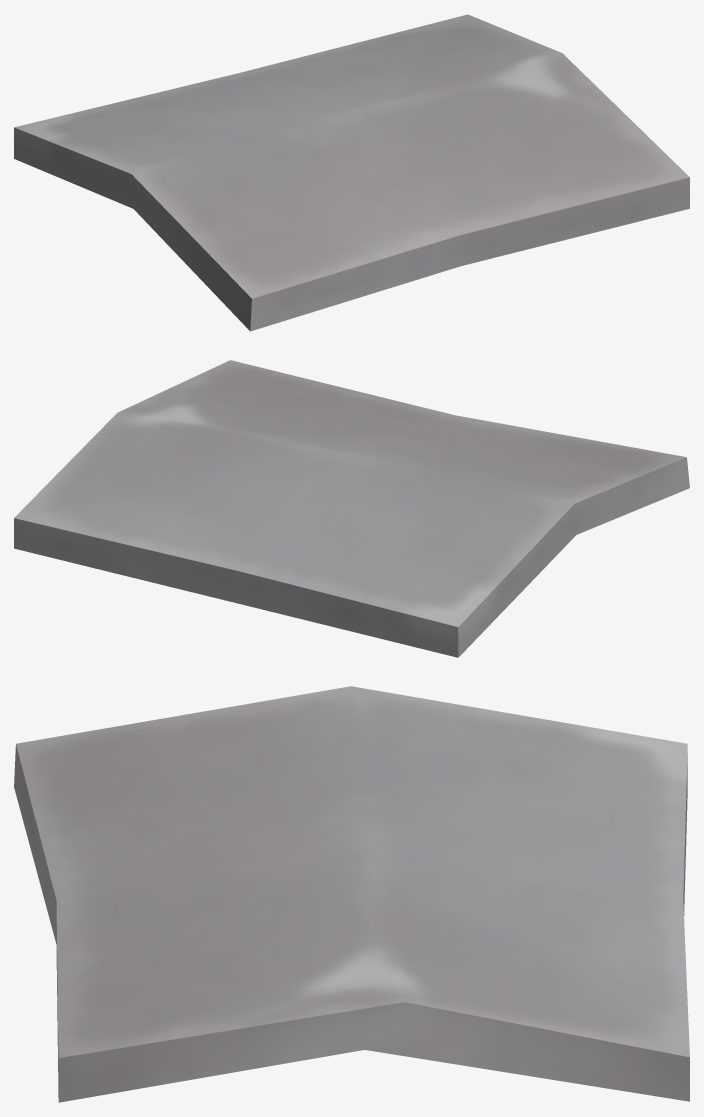
Rendered from Pfb_MetalBoard__16.fbx.
The picture shows the model from 3 angles, top to bottom: view 1: azimuth 30°, elevation 25°; view 2: azimuth 150°, elevation 25°; view 3: azimuth 270°, elevation 25°; orthographic projection. The views are drawn at different scales.
Parts seen in each view (by area): view 1: Mat_MetalBoard_01_1; view 2: Mat_MetalBoard_01_1; view 3: Mat_MetalBoard_01_1.
Boxes of the visible parts, left/top/right/bottom form: Mat_MetalBoard_01_1: left=14, top=14, right=689, bottom=331; Mat_MetalBoard_01_1: left=14, top=360, right=689, bottom=657; Mat_MetalBoard_01_1: left=14, top=686, right=689, bottom=1102.
Bounding box in the file's own units: 0.6009 × 0.0914 × 0.5428.
1 material, 1 textured.
